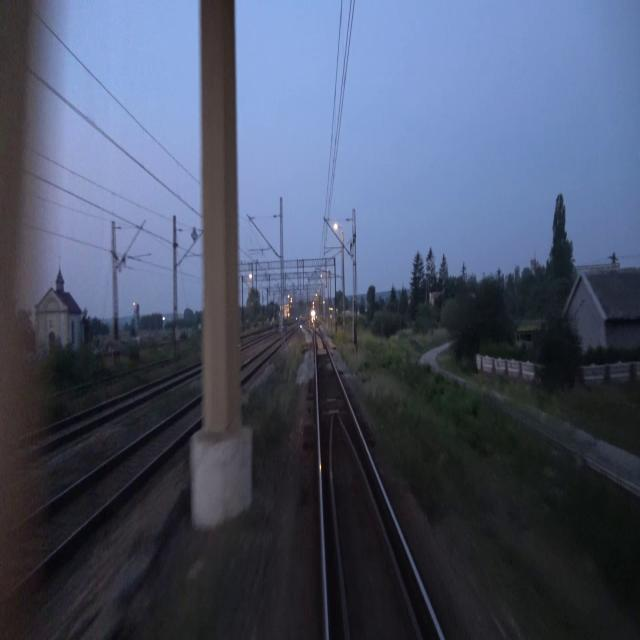rail-track: (0, 397, 202, 597), (316, 333, 441, 639), (0, 369, 193, 460), (243, 340, 281, 375)
